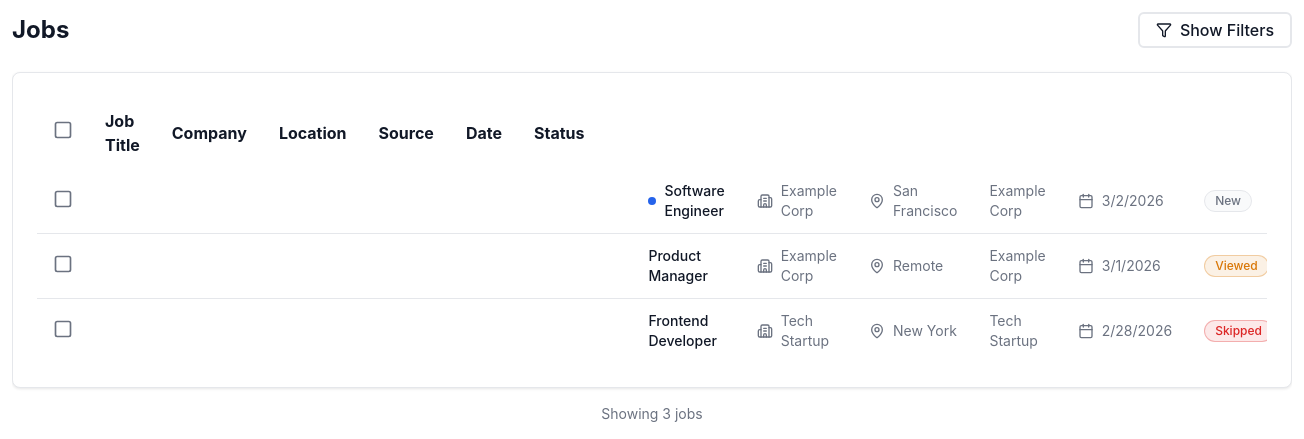
Scenario: Jobs Page › allows selecting all jobs
Expected: the text "Software Engineer" is shown, [664, 181, 725, 221]
// Click select all button
Step 1. Click the button named "Select all" → x=63, y=130, box [53, 120, 73, 140]
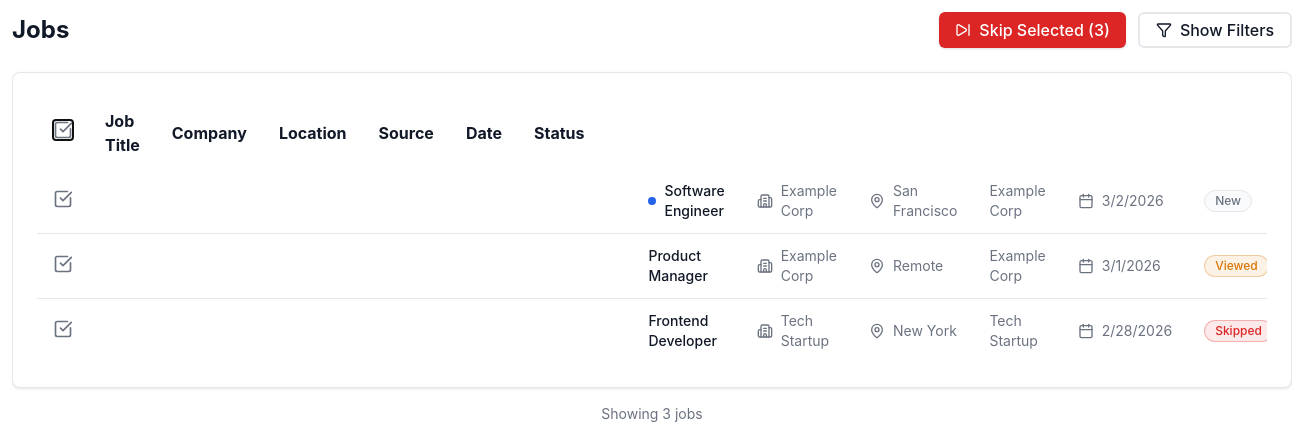
Result: the button "Skip Selected (3)" is shown at [939, 12, 1126, 48]
